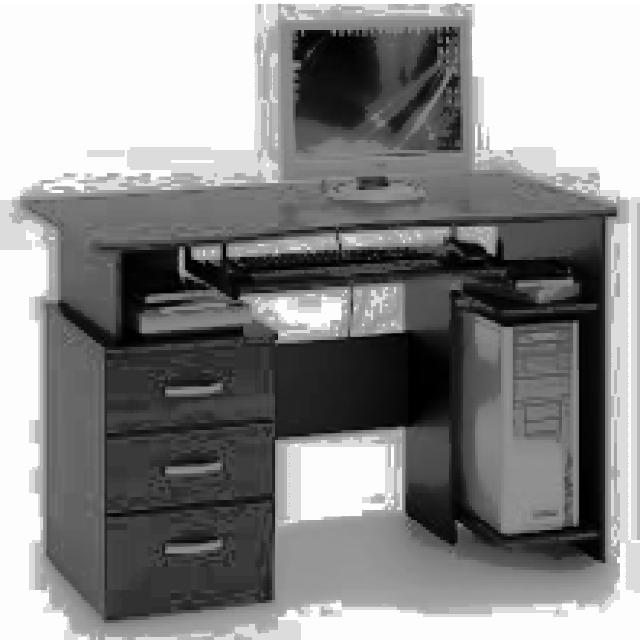table: (20, 167, 617, 620)
